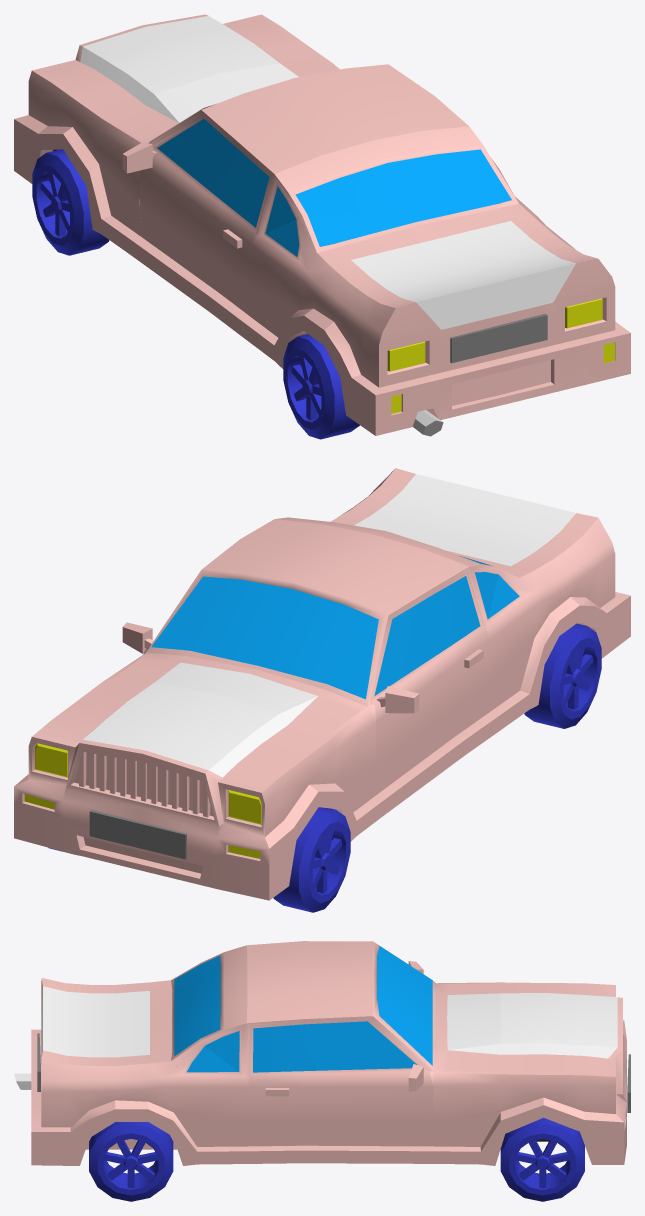
The model's file is Car01.fbx.
The picture shows the model from 3 angles, top to bottom: view 1: azimuth 30°, elevation 25°; view 2: azimuth 150°, elevation 25°; view 3: azimuth 270°, elevation 25°; orthographic projection. The views are drawn at different scales.
Visible parts, largest first — view 1: Skeleton, Hood, Trunk, Windows, DoorL, Wheel (×2), WindowDoorL, LicencePlate, Lights; view 2: Skeleton, Hood, Windows, DoorL, Trunk, Wheel (×2), WindowDoorL, LicencePlate, Lights, DoorR; view 3: Skeleton, DoorR, Hood, Wheel (×2), Windows, Trunk, WindowDoorR, LicencePlate.
Boxes of the visible parts, x1,y1,x2,y2 form: Skeleton: (14, 14, 630, 435); Hood: (42, 16, 335, 139); Trunk: (351, 221, 575, 329); Windows: (265, 149, 511, 256); DoorL: (122, 114, 271, 316); Wheel (×2): (32, 149, 359, 439); WindowDoorL: (157, 119, 269, 227); LicencePlate: (450, 313, 547, 363); Lights: (387, 298, 614, 413); Skeleton: (14, 468, 630, 900); Hood: (42, 659, 357, 787); Windows: (151, 556, 519, 699); DoorL: (371, 571, 488, 792); Trunk: (354, 474, 575, 566); Wheel (×2): (273, 623, 601, 912); WindowDoorL: (374, 576, 480, 695); LicencePlate: (89, 810, 186, 859); Lights: (24, 743, 261, 858); DoorR: (122, 622, 153, 653); Skeleton: (31, 941, 626, 1165); DoorR: (249, 1019, 433, 1146); Hood: (447, 983, 617, 1074); Wheel (×2): (89, 1117, 584, 1201); Windows: (174, 946, 432, 1072); Trunk: (41, 986, 149, 1064); WindowDoorR: (253, 1021, 416, 1072); LicencePlate: (37, 1033, 630, 1112).
Bounding box in the file's own units: 112 × 79.18 × 248.
